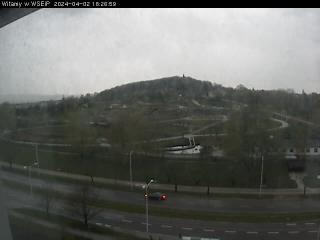car: (145, 190, 166, 202)
